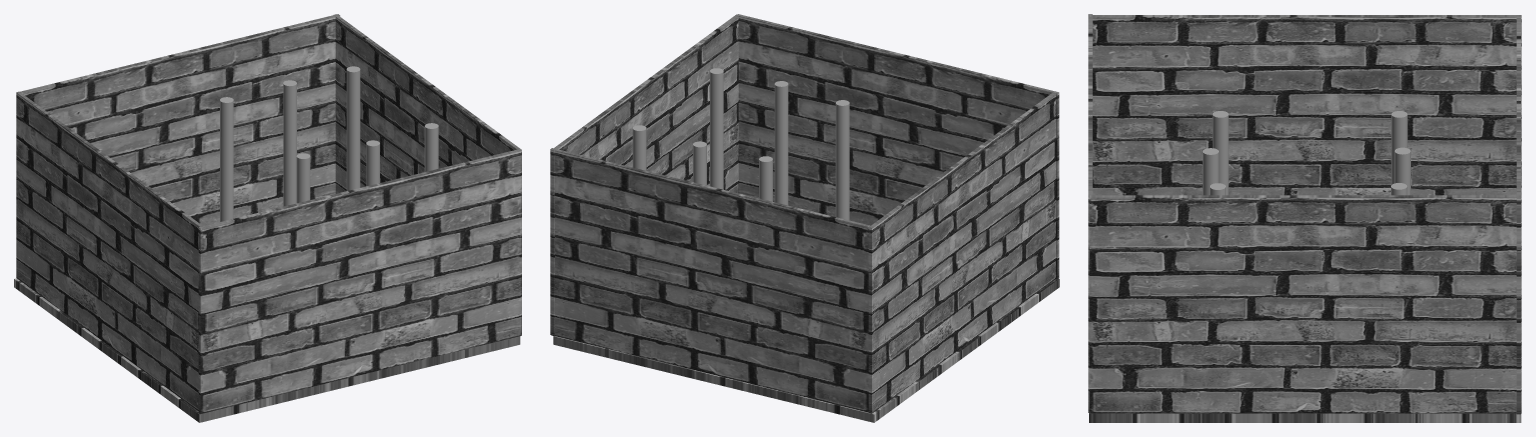
Rendered from stage.fbx.
3 renders of one model, left to right at view 1: azimuth 30°, elevation 25°; view 2: azimuth 150°, elevation 25°; view 3: azimuth 270°, elevation 25°, orthographic. The views are drawn at different scales.
Visible parts, largest first — view 1: pCube4; view 2: pCube4; view 3: pCube4.
Part boxes in pixels (x1,y1,x2,y2): pCube4: [14, 14, 521, 422]; pCube4: [550, 14, 1059, 422]; pCube4: [1088, 14, 1521, 422].
Bounding box in the file's own units: 101 × 57.87 × 100.
